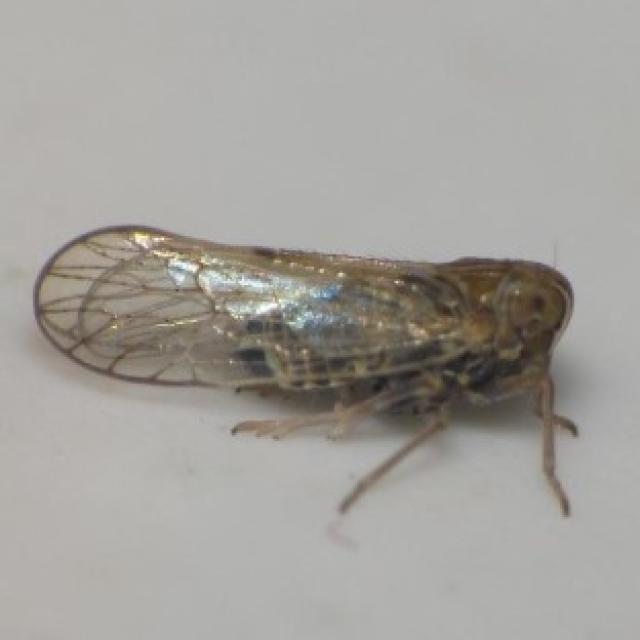brown plant hopper: (35, 226, 576, 513)
